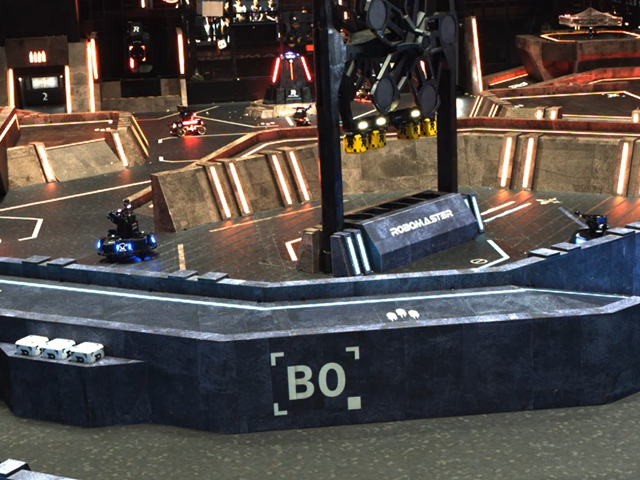rm: (92, 205, 158, 266), (166, 106, 208, 138), (569, 212, 607, 239), (290, 106, 313, 127)
